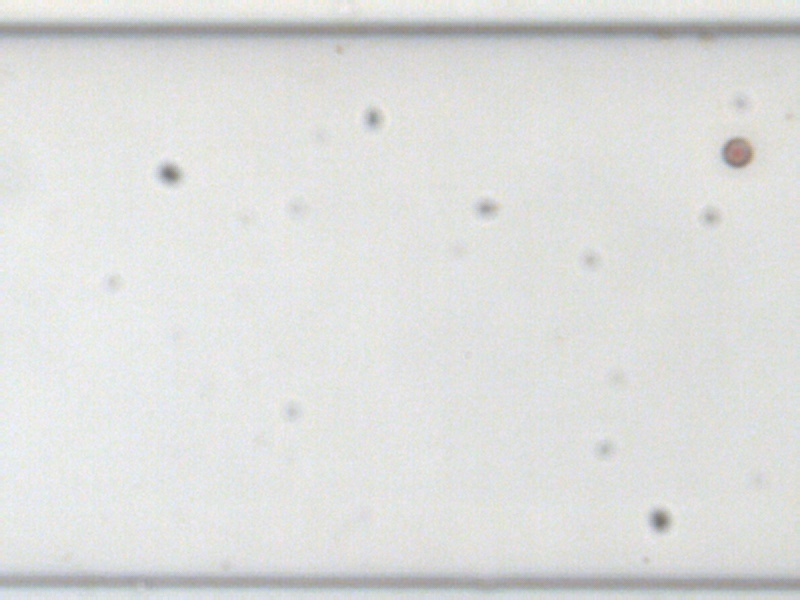Porphyridium: (719, 134, 753, 169)
